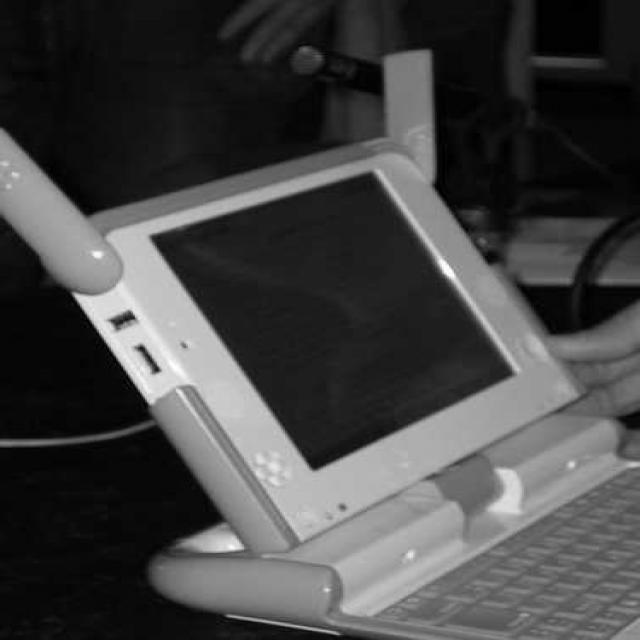laptop: (60, 175, 640, 639)
